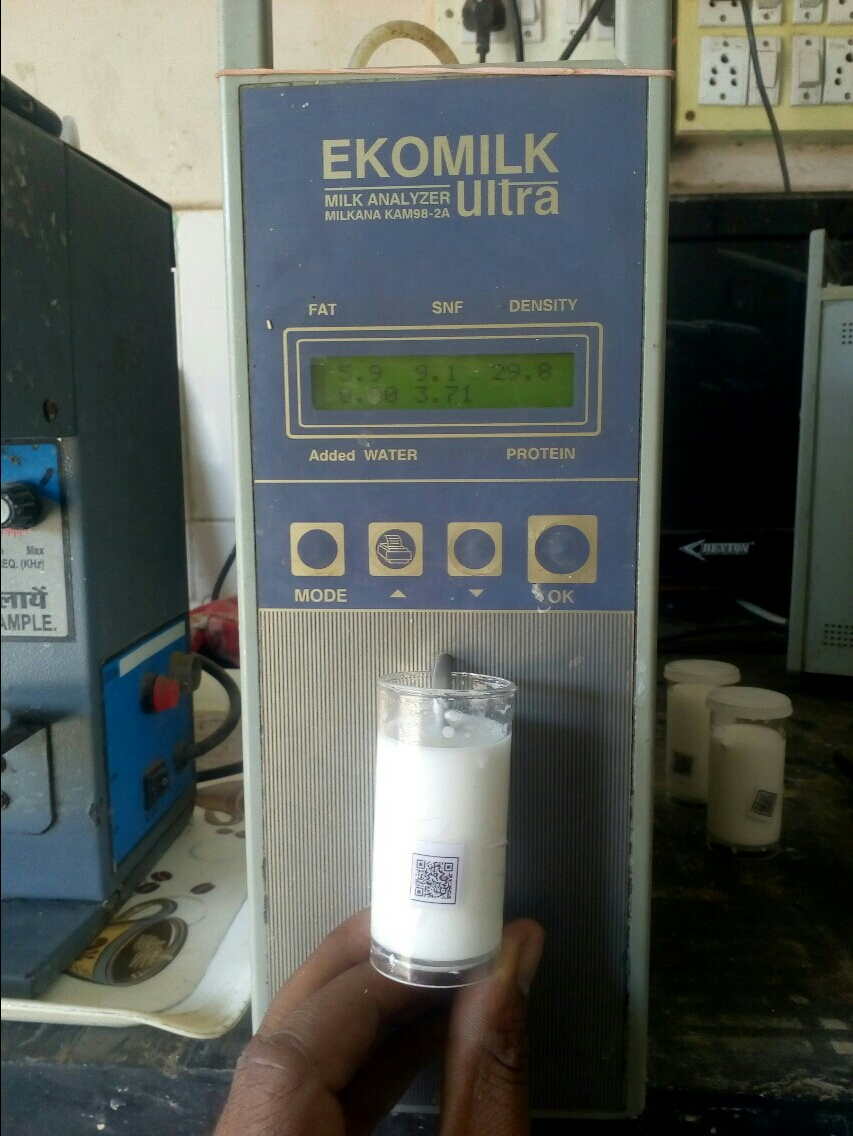lcd: (305, 350, 575, 413)
qr: (410, 856, 460, 906)
